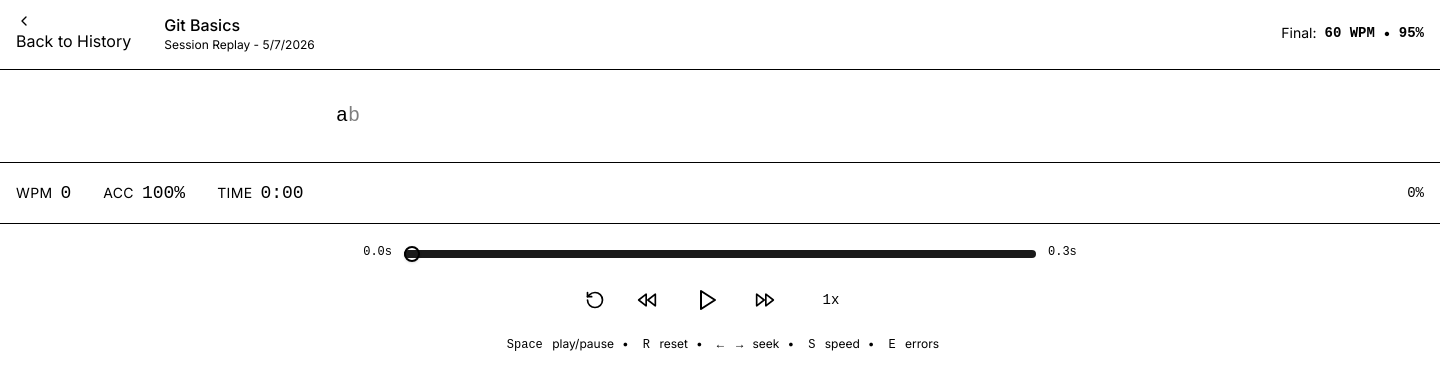
Test: SessionReplay › completion state › should hide cursor when playback is complete
# Start playback
Click the button titled "Play (Space)".
click(706, 300)  # box x1=681 y1=276 x2=731 y2=324
Wait 500 ms
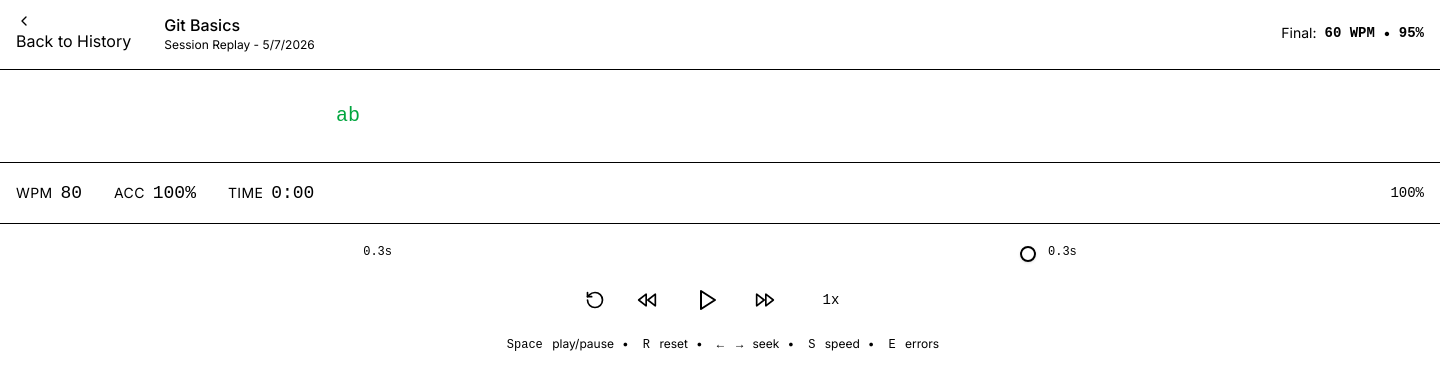
Expected: the element with test id "typing-cursor" is gone
